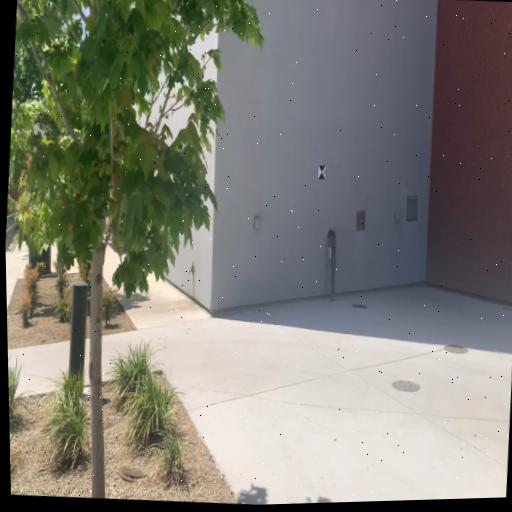target3: (318, 164, 326, 180)
